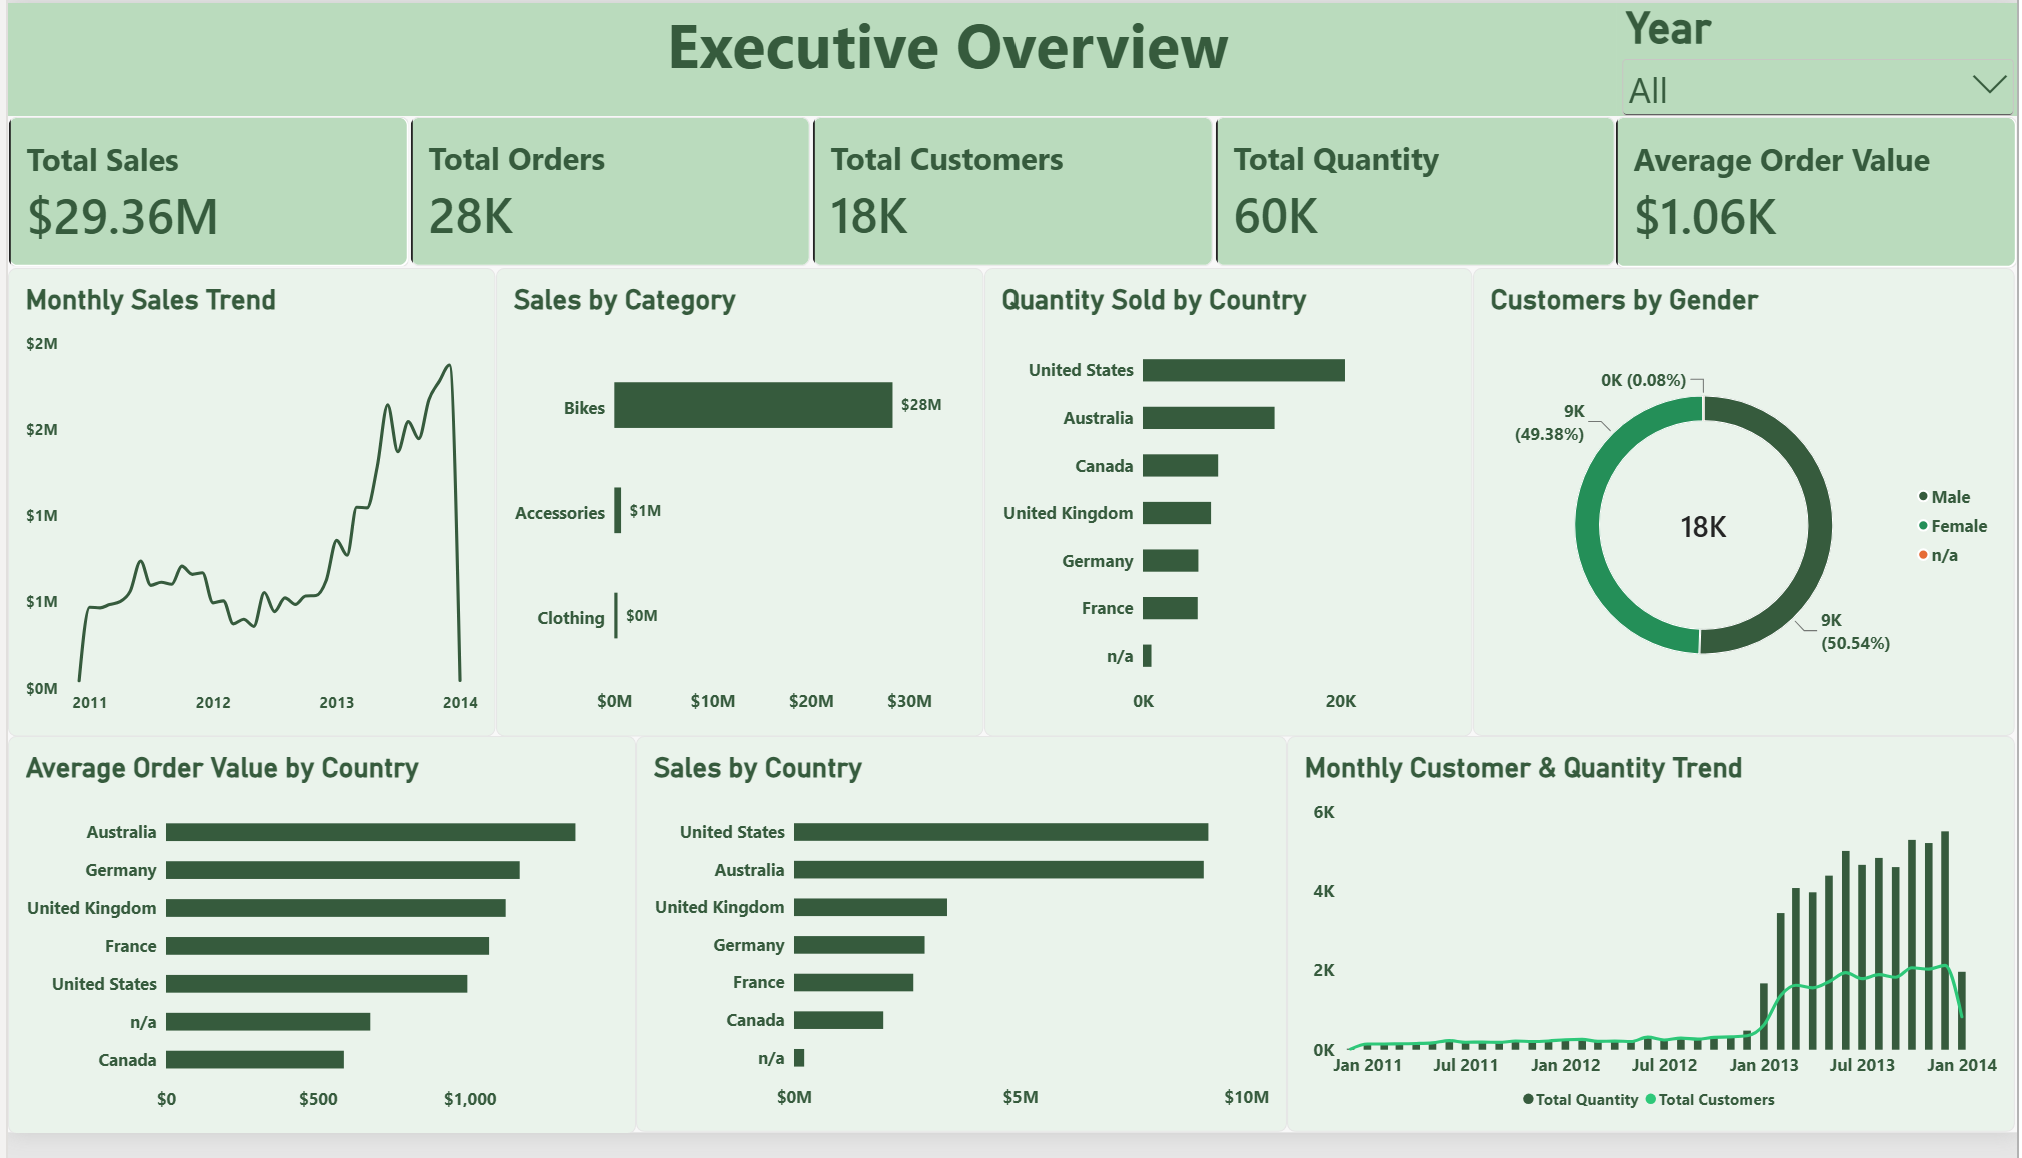

The dashboard page shown, as its layout file describes it:
{"tool":"powerbi","page":{"name":"Executive Overview","canvas":[1920,1080],"ordinal":0},"visuals":[{"type":"cardVisual","fields":{"Data":["fact_sales.Total Sales"]},"box":[0,109,383.5,144.7],"z":0},{"type":"cardVisual","fields":{"Data":["fact_sales.Total Orders"]},"box":[384.4,109,383.5,144.7],"z":1000},{"type":"cardVisual","fields":{"Data":["fact_sales.Total Customers"]},"box":[768.8,109,383.5,144.7],"z":2000},{"type":"cardVisual","fields":{"Data":["fact_sales.Total Quantity"]},"box":[1153.1,109,383.5,144.7],"z":3000},{"type":"cardVisual","fields":{"Data":["fact_sales.Average Order Value"]},"box":[1535.6,109,384.4,145.3],"z":4000},{"type":"lineChart","title":"Monthly Sales Trend","fields":{"Category":["dim_date.Month Start"],"Y":["fact_sales.Total Sales"]},"box":[0,254.3,466.2,447.8],"z":5000},{"type":"clusteredBarChart","title":"Sales by Category","fields":{"Category":["dim_products.category"],"Y":["fact_sales.Total Sales"]},"box":[466.6,254.3,466,448],"z":6000},{"type":"clusteredBarChart","title":"Quantity Sold by Country","fields":{"Category":["dim_customers.country"],"Y":["fact_sales.Total Quantity"]},"box":[933.2,254.3,466,448],"z":7000},{"type":"donutChart","title":"Customers by Gender","fields":{"Category":["dim_customers.gender"],"Y":["fact_sales.Total Customers"]},"box":[1399.8,254.3,518.2,447.5],"z":8000},{"type":"slicer","fields":{"Values":["dim_date.Year"]},"box":[1537.5,0,384.4,109],"z":9000},{"type":"textbox","box":[0,0,1537.5,109],"z":10000},{"type":"clusteredBarChart","title":"Average Order Value by Country","fields":{"Category":["dim_customers.country"],"Y":["fact_sales.Average Order Value"]},"box":[0,701.8,600.5,380.6],"z":10001},{"type":"clusteredBarChart","title":"Sales by Country","fields":{"Category":["dim_customers.country"],"Y":["fact_sales.Total Sales"]},"box":[600.5,701.8,621.5,378.6],"z":10002},{"type":"lineClusteredColumnComboChart","title":"Monthly Customer & Quantity Trend","fields":{"Category":["dim_date.Month Start"],"Y":["fact_sales.Total Quantity"],"Y2":["fact_sales.Total Customers"]},"box":[1222,701.8,696.1,378.6],"z":10003}]}

Visuals, with their boxes in screenshot pixels (x1, y1, x2, y2), scaled from the page's 1920x1080 canvas onto the 2022x1158 screenshot:
cardVisual - fact_sales.Total Sales: x1=0, y1=117, x2=404, y2=272
cardVisual - fact_sales.Total Orders: x1=405, y1=117, x2=809, y2=272
cardVisual - fact_sales.Total Customers: x1=810, y1=117, x2=1214, y2=272
cardVisual - fact_sales.Total Quantity: x1=1214, y1=117, x2=1618, y2=272
cardVisual - fact_sales.Average Order Value: x1=1617, y1=117, x2=2021, y2=273
"Monthly Sales Trend" lineChart: x1=0, y1=273, x2=491, y2=753
"Sales by Category" clusteredBarChart: x1=491, y1=273, x2=982, y2=753
"Quantity Sold by Country" clusteredBarChart: x1=983, y1=273, x2=1474, y2=753
"Customers by Gender" donutChart: x1=1474, y1=273, x2=2020, y2=752
slicer - dim_date.Year: x1=1619, y1=0, x2=2021, y2=117
textbox: x1=0, y1=0, x2=1619, y2=117
"Average Order Value by Country" clusteredBarChart: x1=0, y1=752, x2=632, y2=1157
"Sales by Country" clusteredBarChart: x1=632, y1=752, x2=1287, y2=1157
"Monthly Customer & Quantity Trend" lineClusteredColumnComboChart: x1=1287, y1=752, x2=2020, y2=1157
